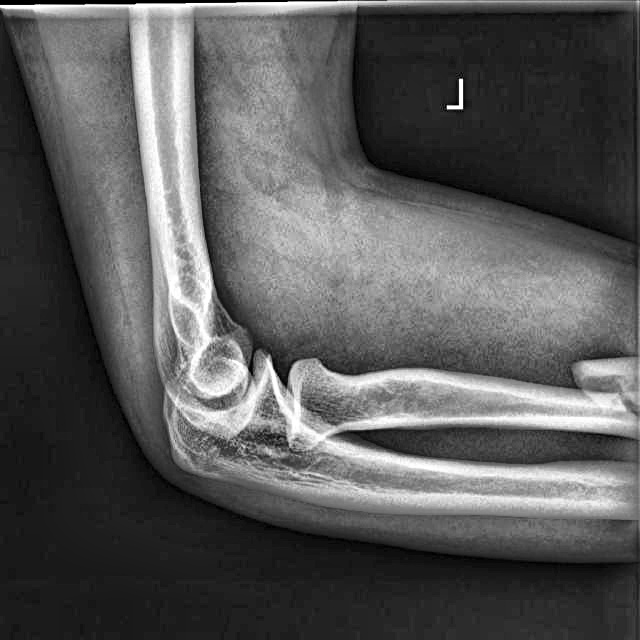Spiral: (572, 341, 638, 453)
